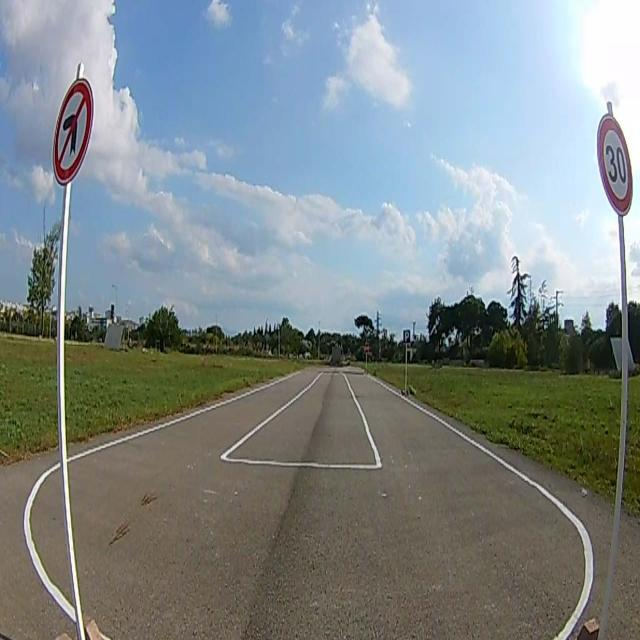30: (599, 120, 633, 211)
soladonulmez: (52, 81, 94, 184)
